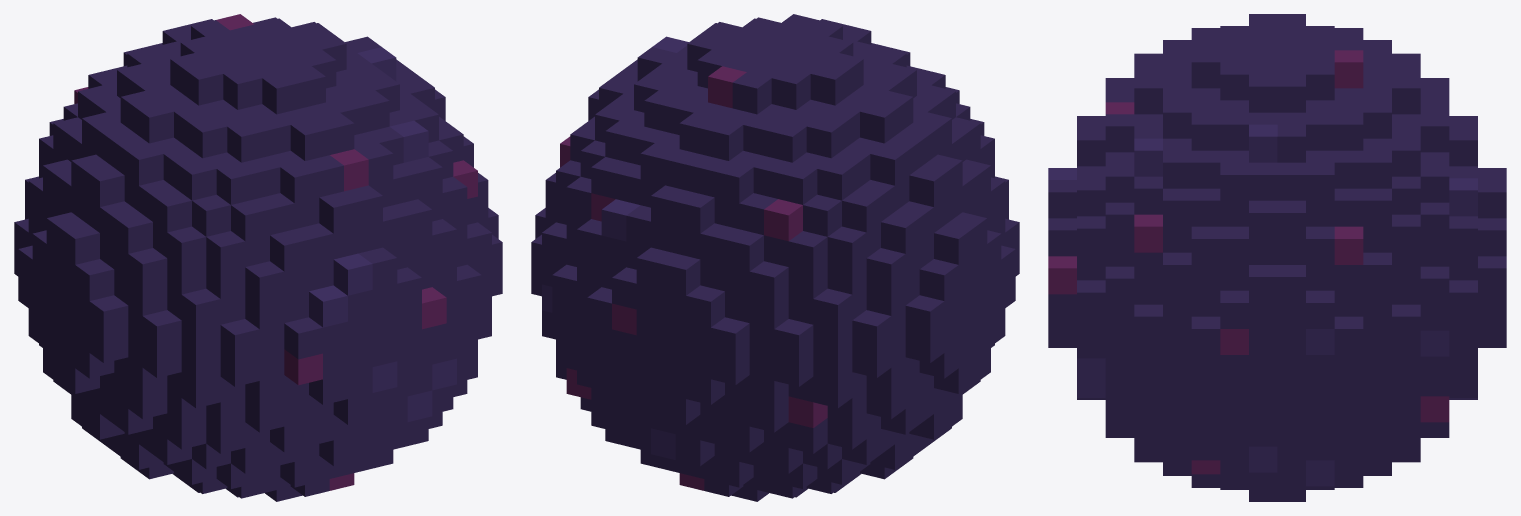
Rendered from planetas-16-roxo.obj.
The picture shows the model from 3 angles, left to right: view 1: azimuth 30°, elevation 25°; view 2: azimuth 150°, elevation 25°; view 3: azimuth 270°, elevation 25°; orthographic projection.
Bounding box in the file's own units: 1.6 × 1.6 × 1.6.
1 material, 1 textured.
